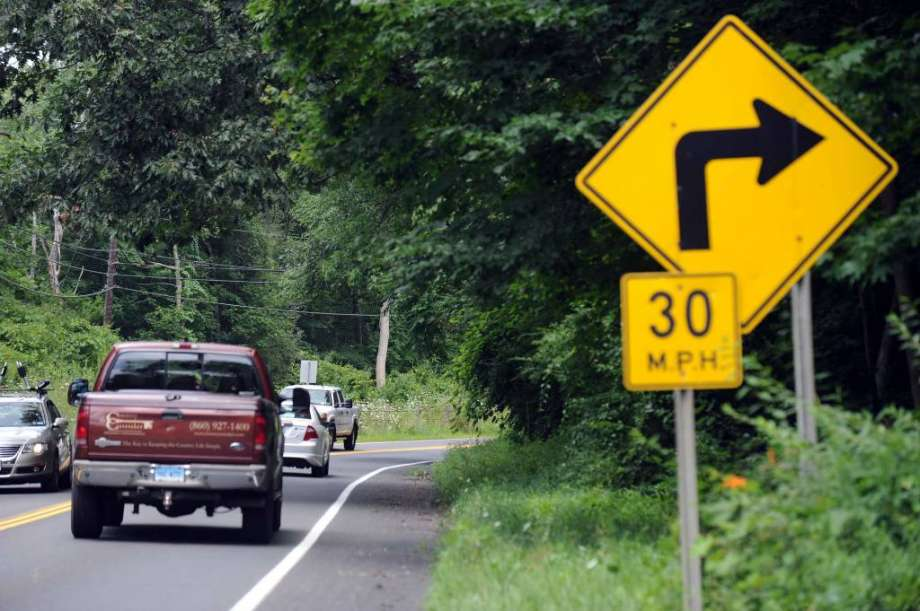right: (564, 10, 905, 346)
